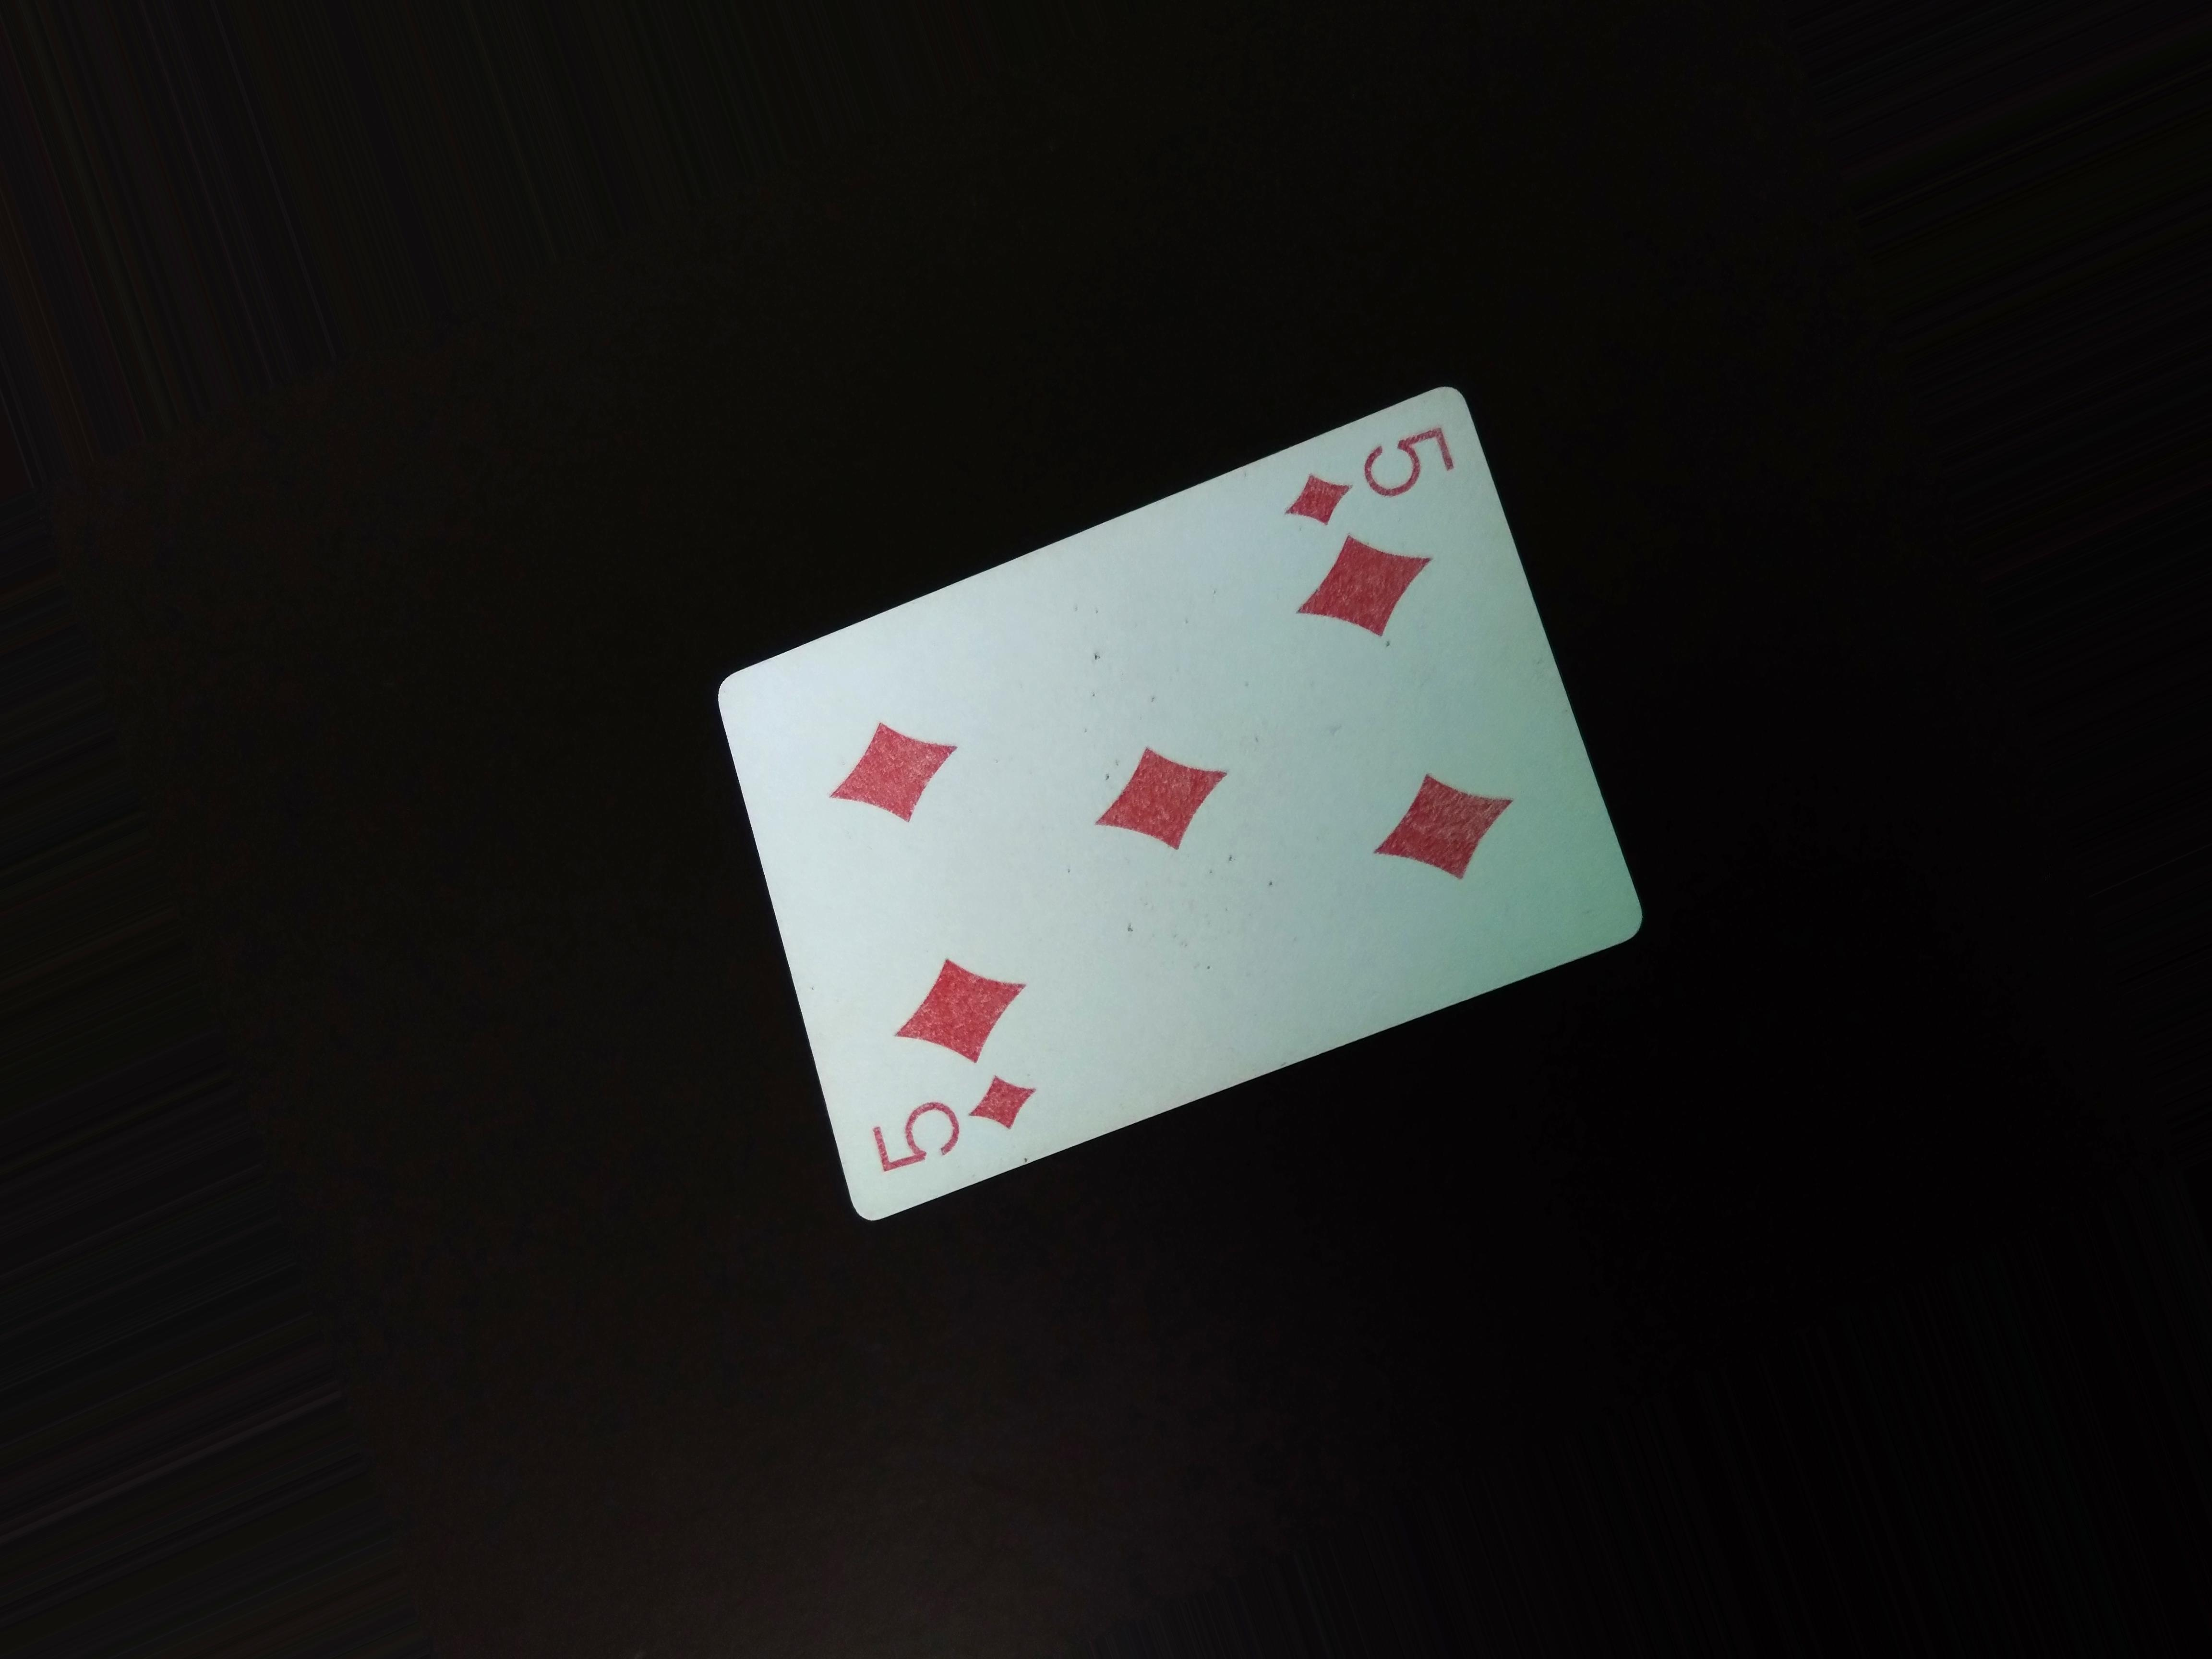5D: (859, 1075, 1035, 1154)
